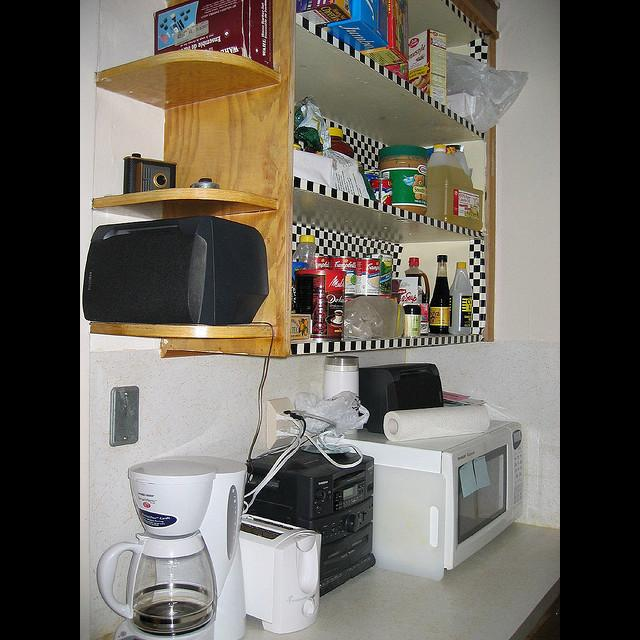Microwave: (346, 421, 523, 583)
